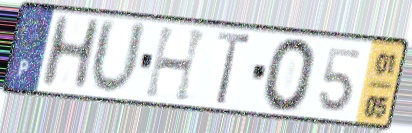5: (315, 44, 364, 114)
H: (142, 25, 211, 105), (37, 13, 105, 91)
O: (261, 35, 319, 115)
T: (213, 29, 255, 108)
U: (87, 15, 150, 99)
